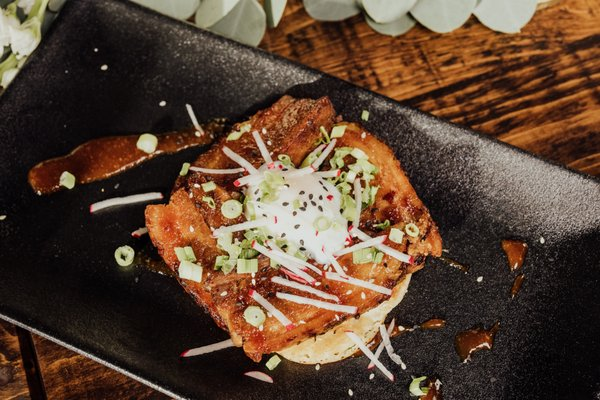curry: (1, 1, 598, 389)
sandwich: (143, 93, 443, 369)
